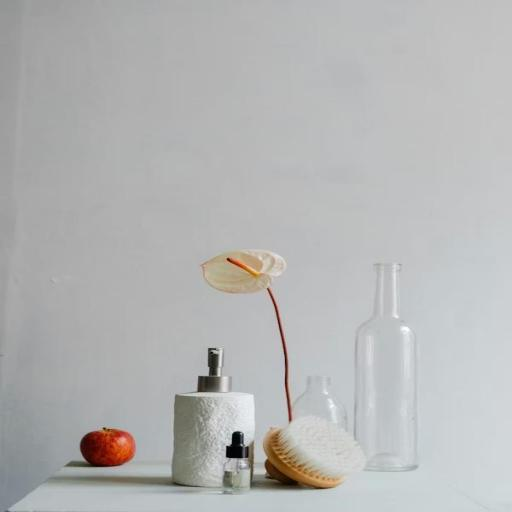bottle: (338, 256, 434, 480), (133, 342, 266, 492)
